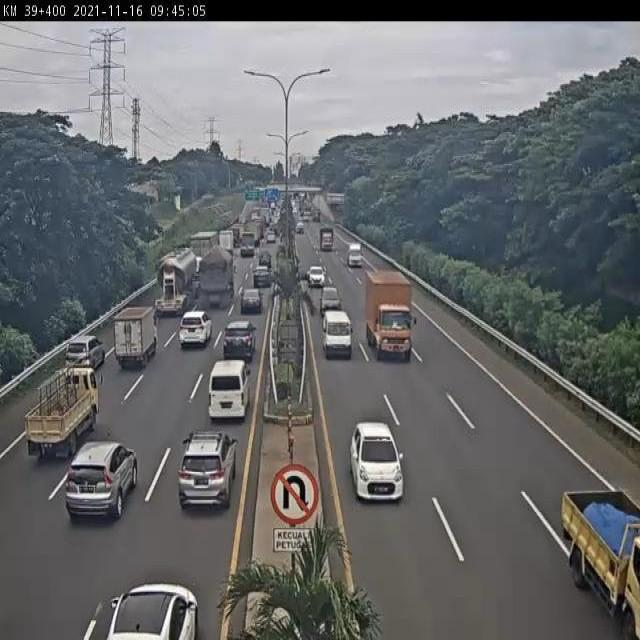car: (64, 443, 138, 521), (178, 430, 236, 510), (349, 423, 404, 501), (64, 333, 103, 376), (322, 310, 352, 358), (178, 310, 213, 346), (223, 323, 255, 360), (320, 285, 341, 319), (240, 289, 262, 319), (308, 262, 326, 286), (256, 254, 273, 278), (253, 268, 272, 289)
small bus: (207, 360, 250, 420)
small truck: (560, 490, 640, 640), (24, 367, 99, 456), (114, 307, 156, 368)
truck-l-: (196, 248, 236, 309), (190, 229, 222, 279)
truck-m-: (366, 267, 413, 361)
truck-xl-: (153, 247, 198, 320)
